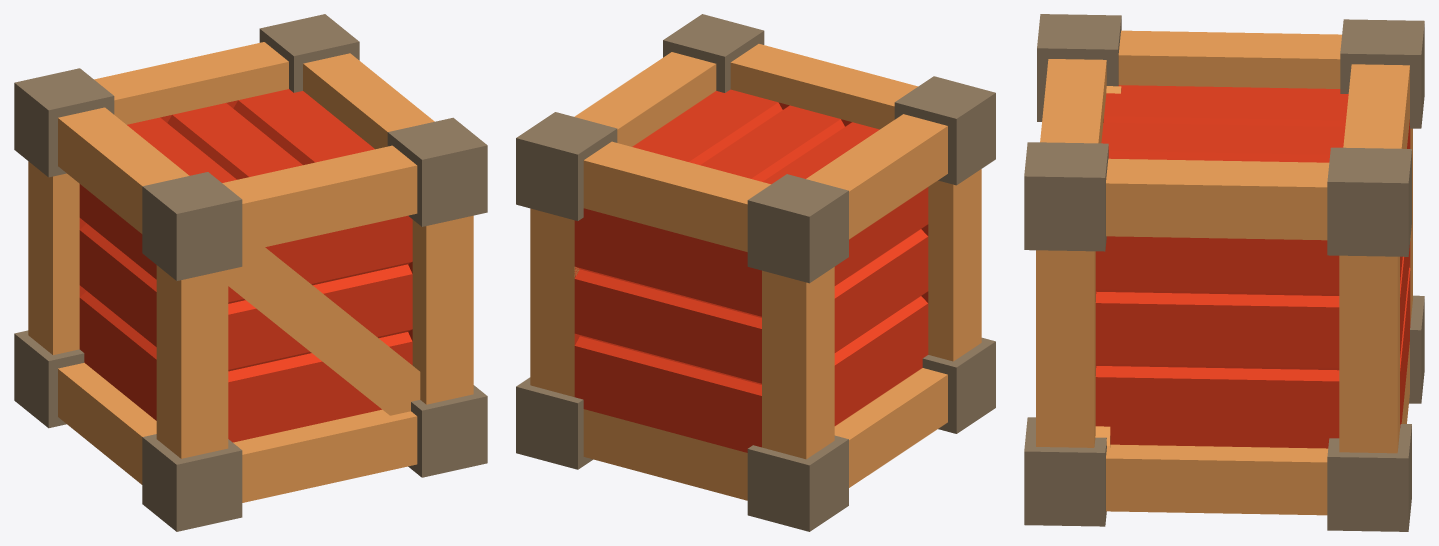
File: crate.glb
The picture shows the model from 3 angles, left to right: view 1: azimuth 30°, elevation 25°; view 2: azimuth 150°, elevation 25°; view 3: azimuth 270°, elevation 25°; orthographic projection. The views are drawn at different scales.
Parts seen in each view (by area): view 1: explosiveCrates.001; view 2: explosiveCrates.001; view 3: explosiveCrates.001.
Part boxes in pixels (x1,y1,x2,y2): explosiveCrates.001: [14, 14, 487, 531]; explosiveCrates.001: [516, 14, 995, 531]; explosiveCrates.001: [1024, 14, 1424, 531].
Size of the model in its own units: 1.11 by 1.06 by 1.11.
Materials: 1 (1 with a texture image).
